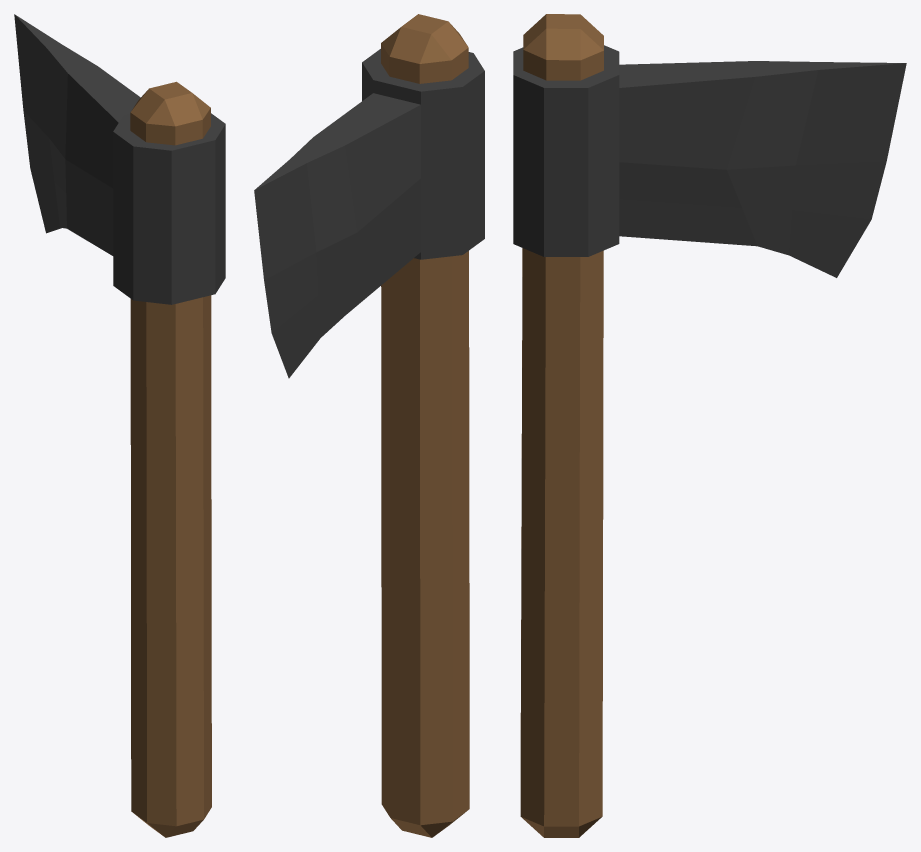
File: MetelAxe.fbx
3 views of the same model, side by side, from view 1: azimuth 30°, elevation 25°; view 2: azimuth 150°, elevation 25°; view 3: azimuth 270°, elevation 25° (orthographic). The views are drawn at different scales.
Parts seen in each view (by area): view 1: metelAxe; view 2: metelAxe; view 3: metelAxe.
Boxes of the visible parts, box(x1,y1,x2,y2) form: metelAxe: box(14, 14, 225, 837); metelAxe: box(254, 14, 484, 837); metelAxe: box(513, 14, 906, 837).
Bounding box in the file's own units: 13.78 × 105 × 46.35.
